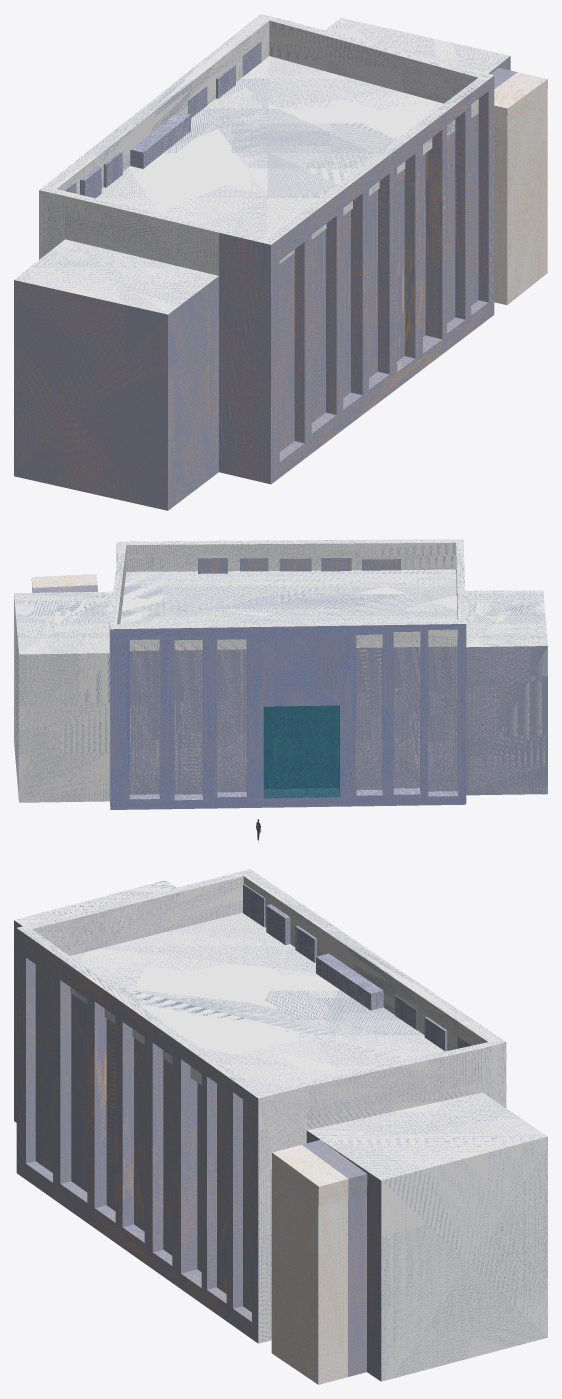
The model's file is libyanmarket.fbx.
3 renders of one model, top to bottom at view 1: azimuth 30°, elevation 25°; view 2: azimuth 150°, elevation 25°; view 3: azimuth 270°, elevation 25°, orthographic. The views are drawn at different scales.
Visible parts, largest first — view 1: Model; view 2: Model; view 3: Model.
Part boxes in pixels (bbox=[...]): Model: bbox=[14, 14, 547, 510]; Model: bbox=[14, 539, 547, 809]; Model: bbox=[14, 869, 547, 1384].
Size of the model in its own units: 40.49 by 15.22 by 30.04.
